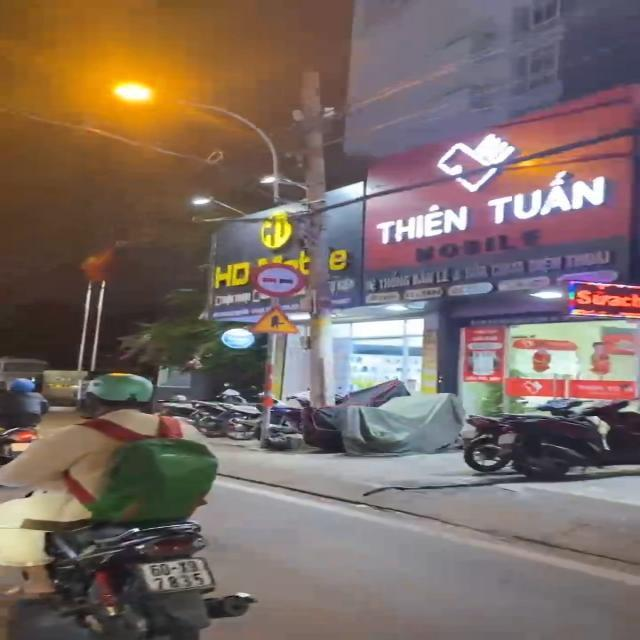137-cam-re-trai-va-re-phai: (249, 263, 307, 299)
207-giao-nhau-voi-duong-khong-uu-tien: (250, 306, 304, 334)
